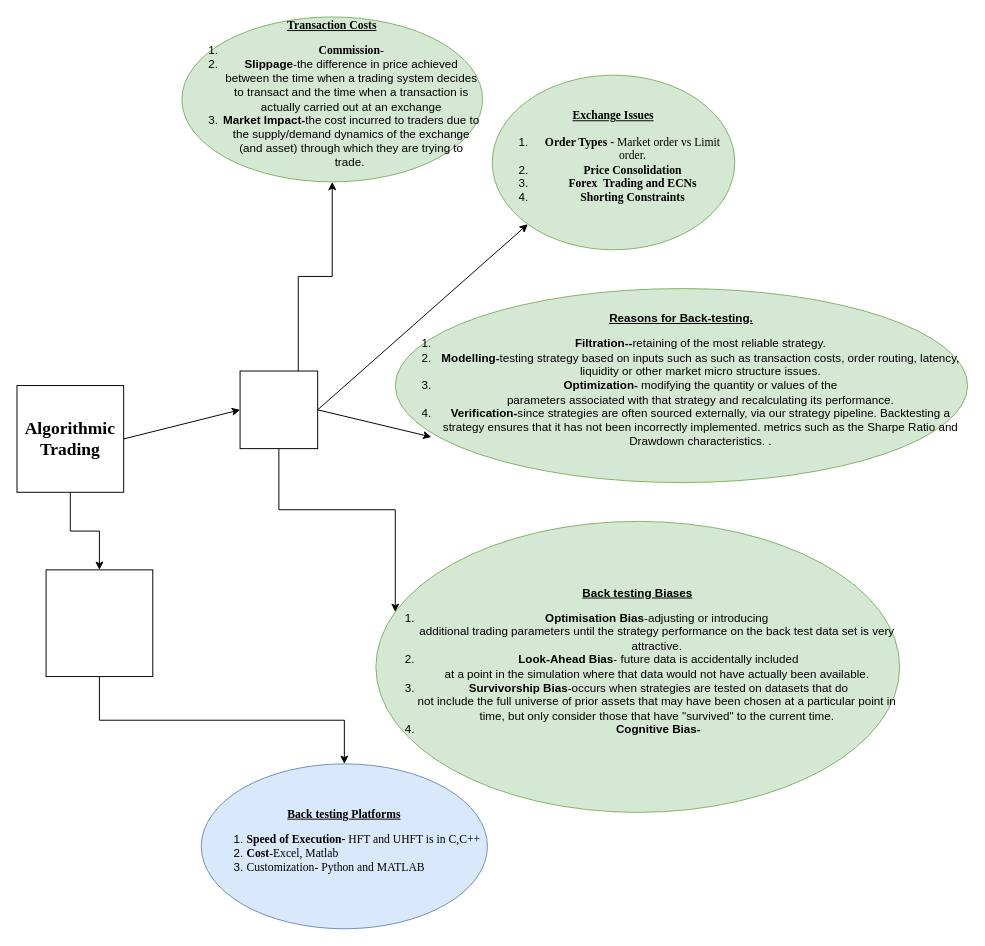
Some shapes in this 985 by 946 pixel diagram are drawn without their labels. The shapes that lost their labels are listed below. From the top down, each one's centre as x and y in pixels, then its label:
(x=278, y=409): Backtesting
(x=99, y=623): Automated Execution
